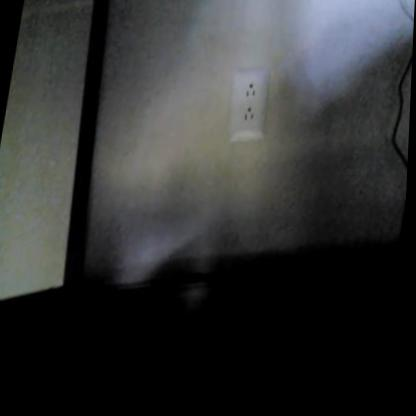OUTLET: (222, 66, 275, 145)
